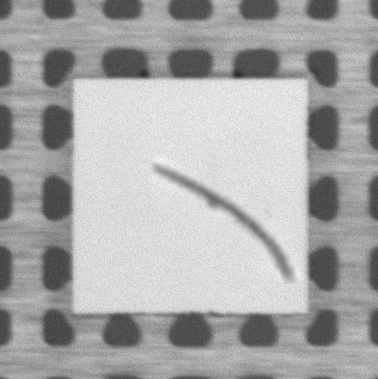DIE_INK: (152, 165, 310, 286)
